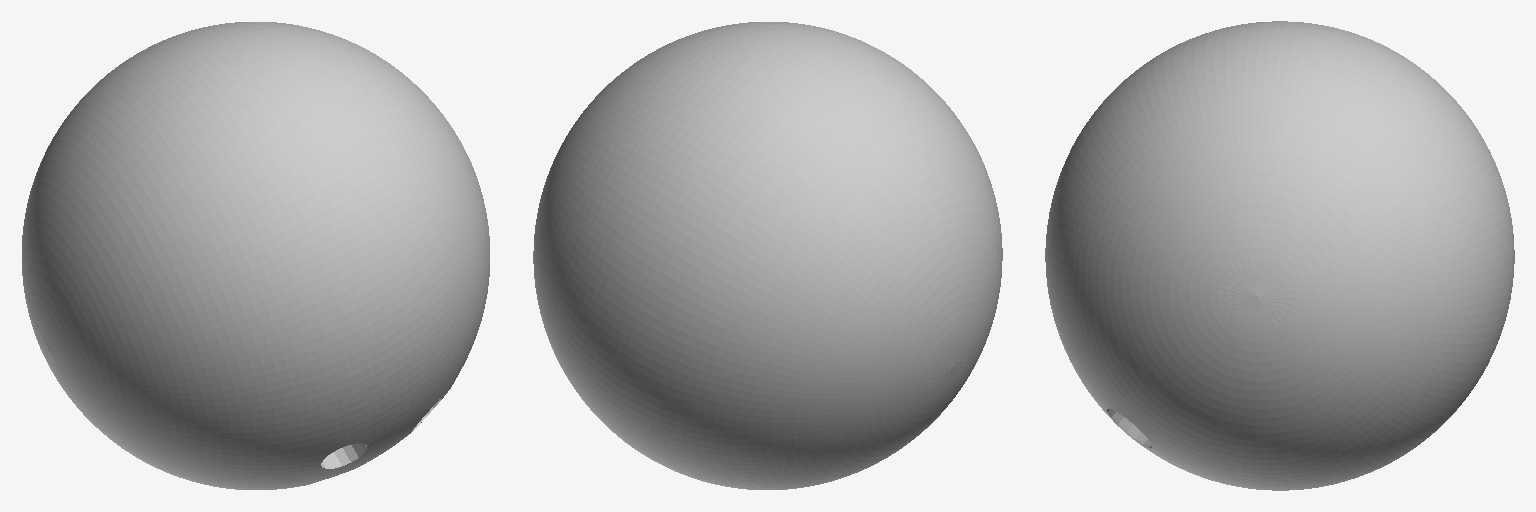
Rendered from boule.obj.
3 views of the same model, side by side, from view 1: azimuth 30°, elevation 25°; view 2: azimuth 150°, elevation 25°; view 3: azimuth 270°, elevation 25° (orthographic).
Visible parts, largest first — view 1: Bowling_Ball; view 2: Bowling_Ball; view 3: Bowling_Ball.
Boxes of the visible parts, <box> form: Bowling_Ball: <box>22,22,489,489</box>; Bowling_Ball: <box>533,22,1002,489</box>; Bowling_Ball: <box>1045,21,1514,490</box>.
Bounding box in the file's own units: 0.21 × 0.2099 × 0.21.